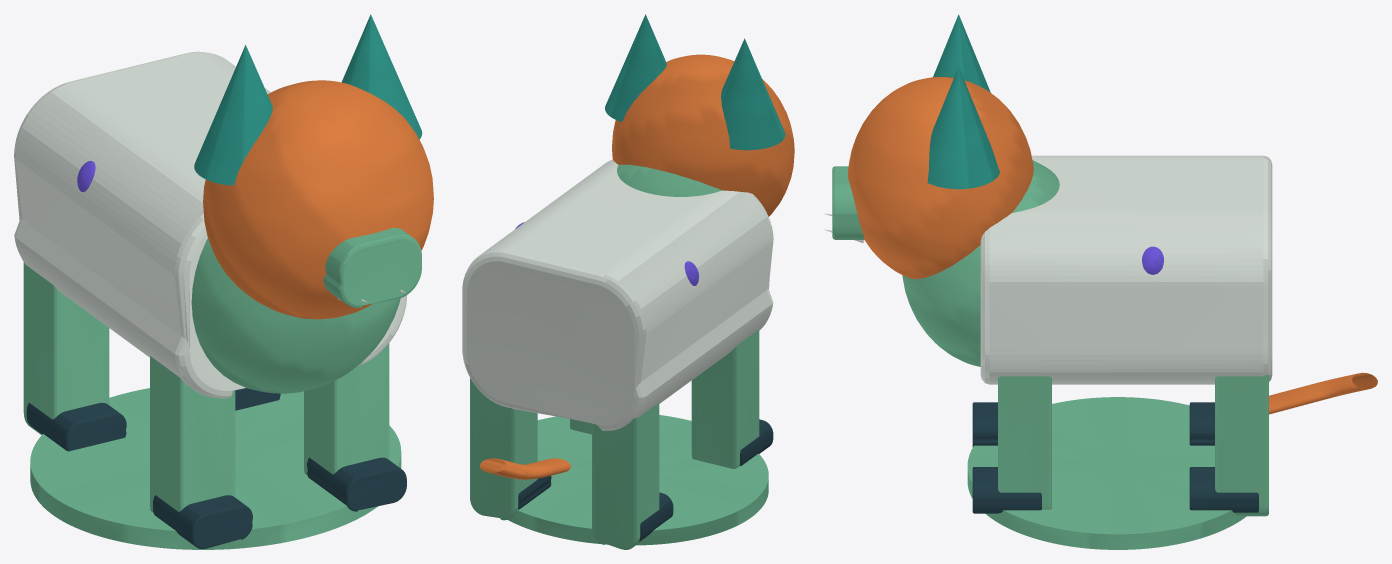
The model's file is 0887_森林动物图鉴_吼猴.glb.
3 renders of one model, left to right at view 1: azimuth 30°, elevation 25°; view 2: azimuth 150°, elevation 25°; view 3: azimuth 270°, elevation 25°, orthographic. The views are drawn at different scales.
Visible parts, largest first — view 1: card_0887; view 2: card_0887; view 3: card_0887.
Part boxes in pixels (bbox=[...]): card_0887: bbox=[14, 14, 433, 549]; card_0887: bbox=[462, 14, 794, 549]; card_0887: bbox=[824, 14, 1377, 549].
Bounding box in the file's own units: 0.6674 × 1 × 1.14.
